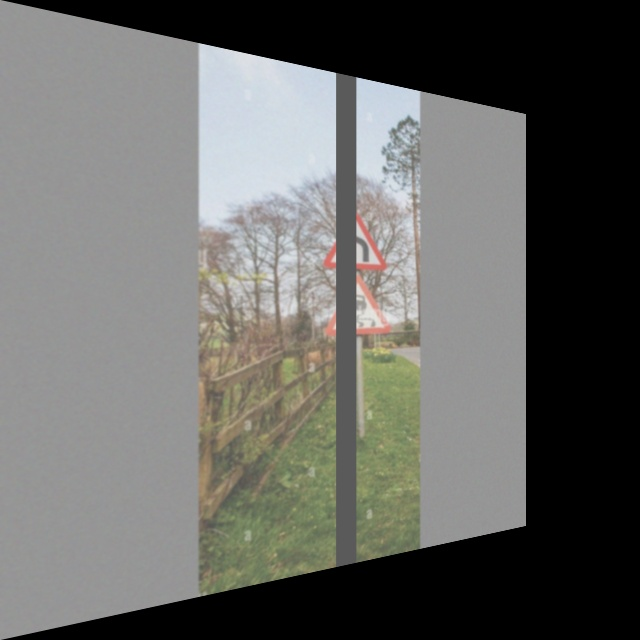Slippery_Road: (326, 273, 389, 338)
